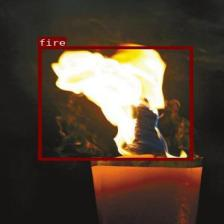fire: (37, 46, 192, 160)
